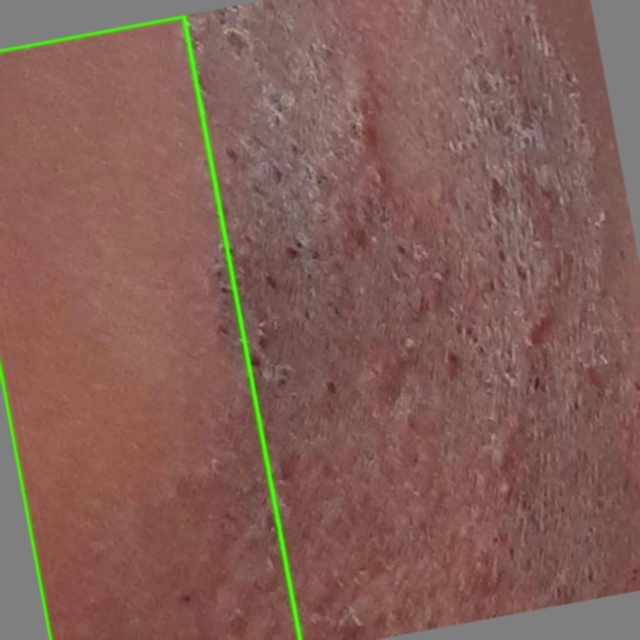Tinea Corporis: (0, 15, 299, 639)
